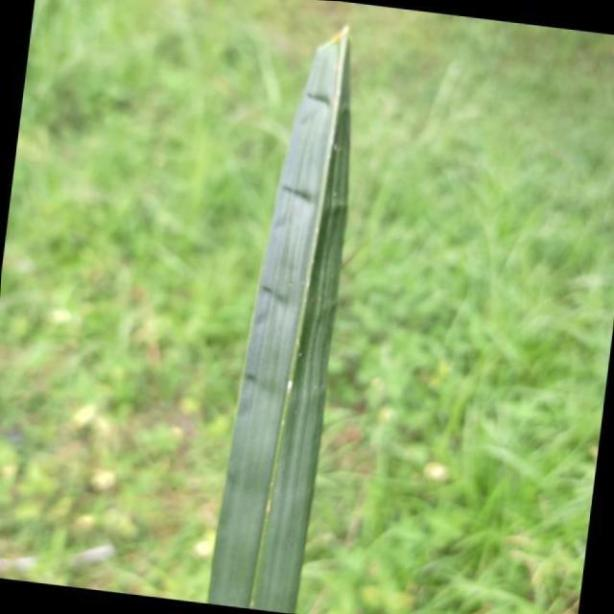Boron: (206, 17, 355, 614)
